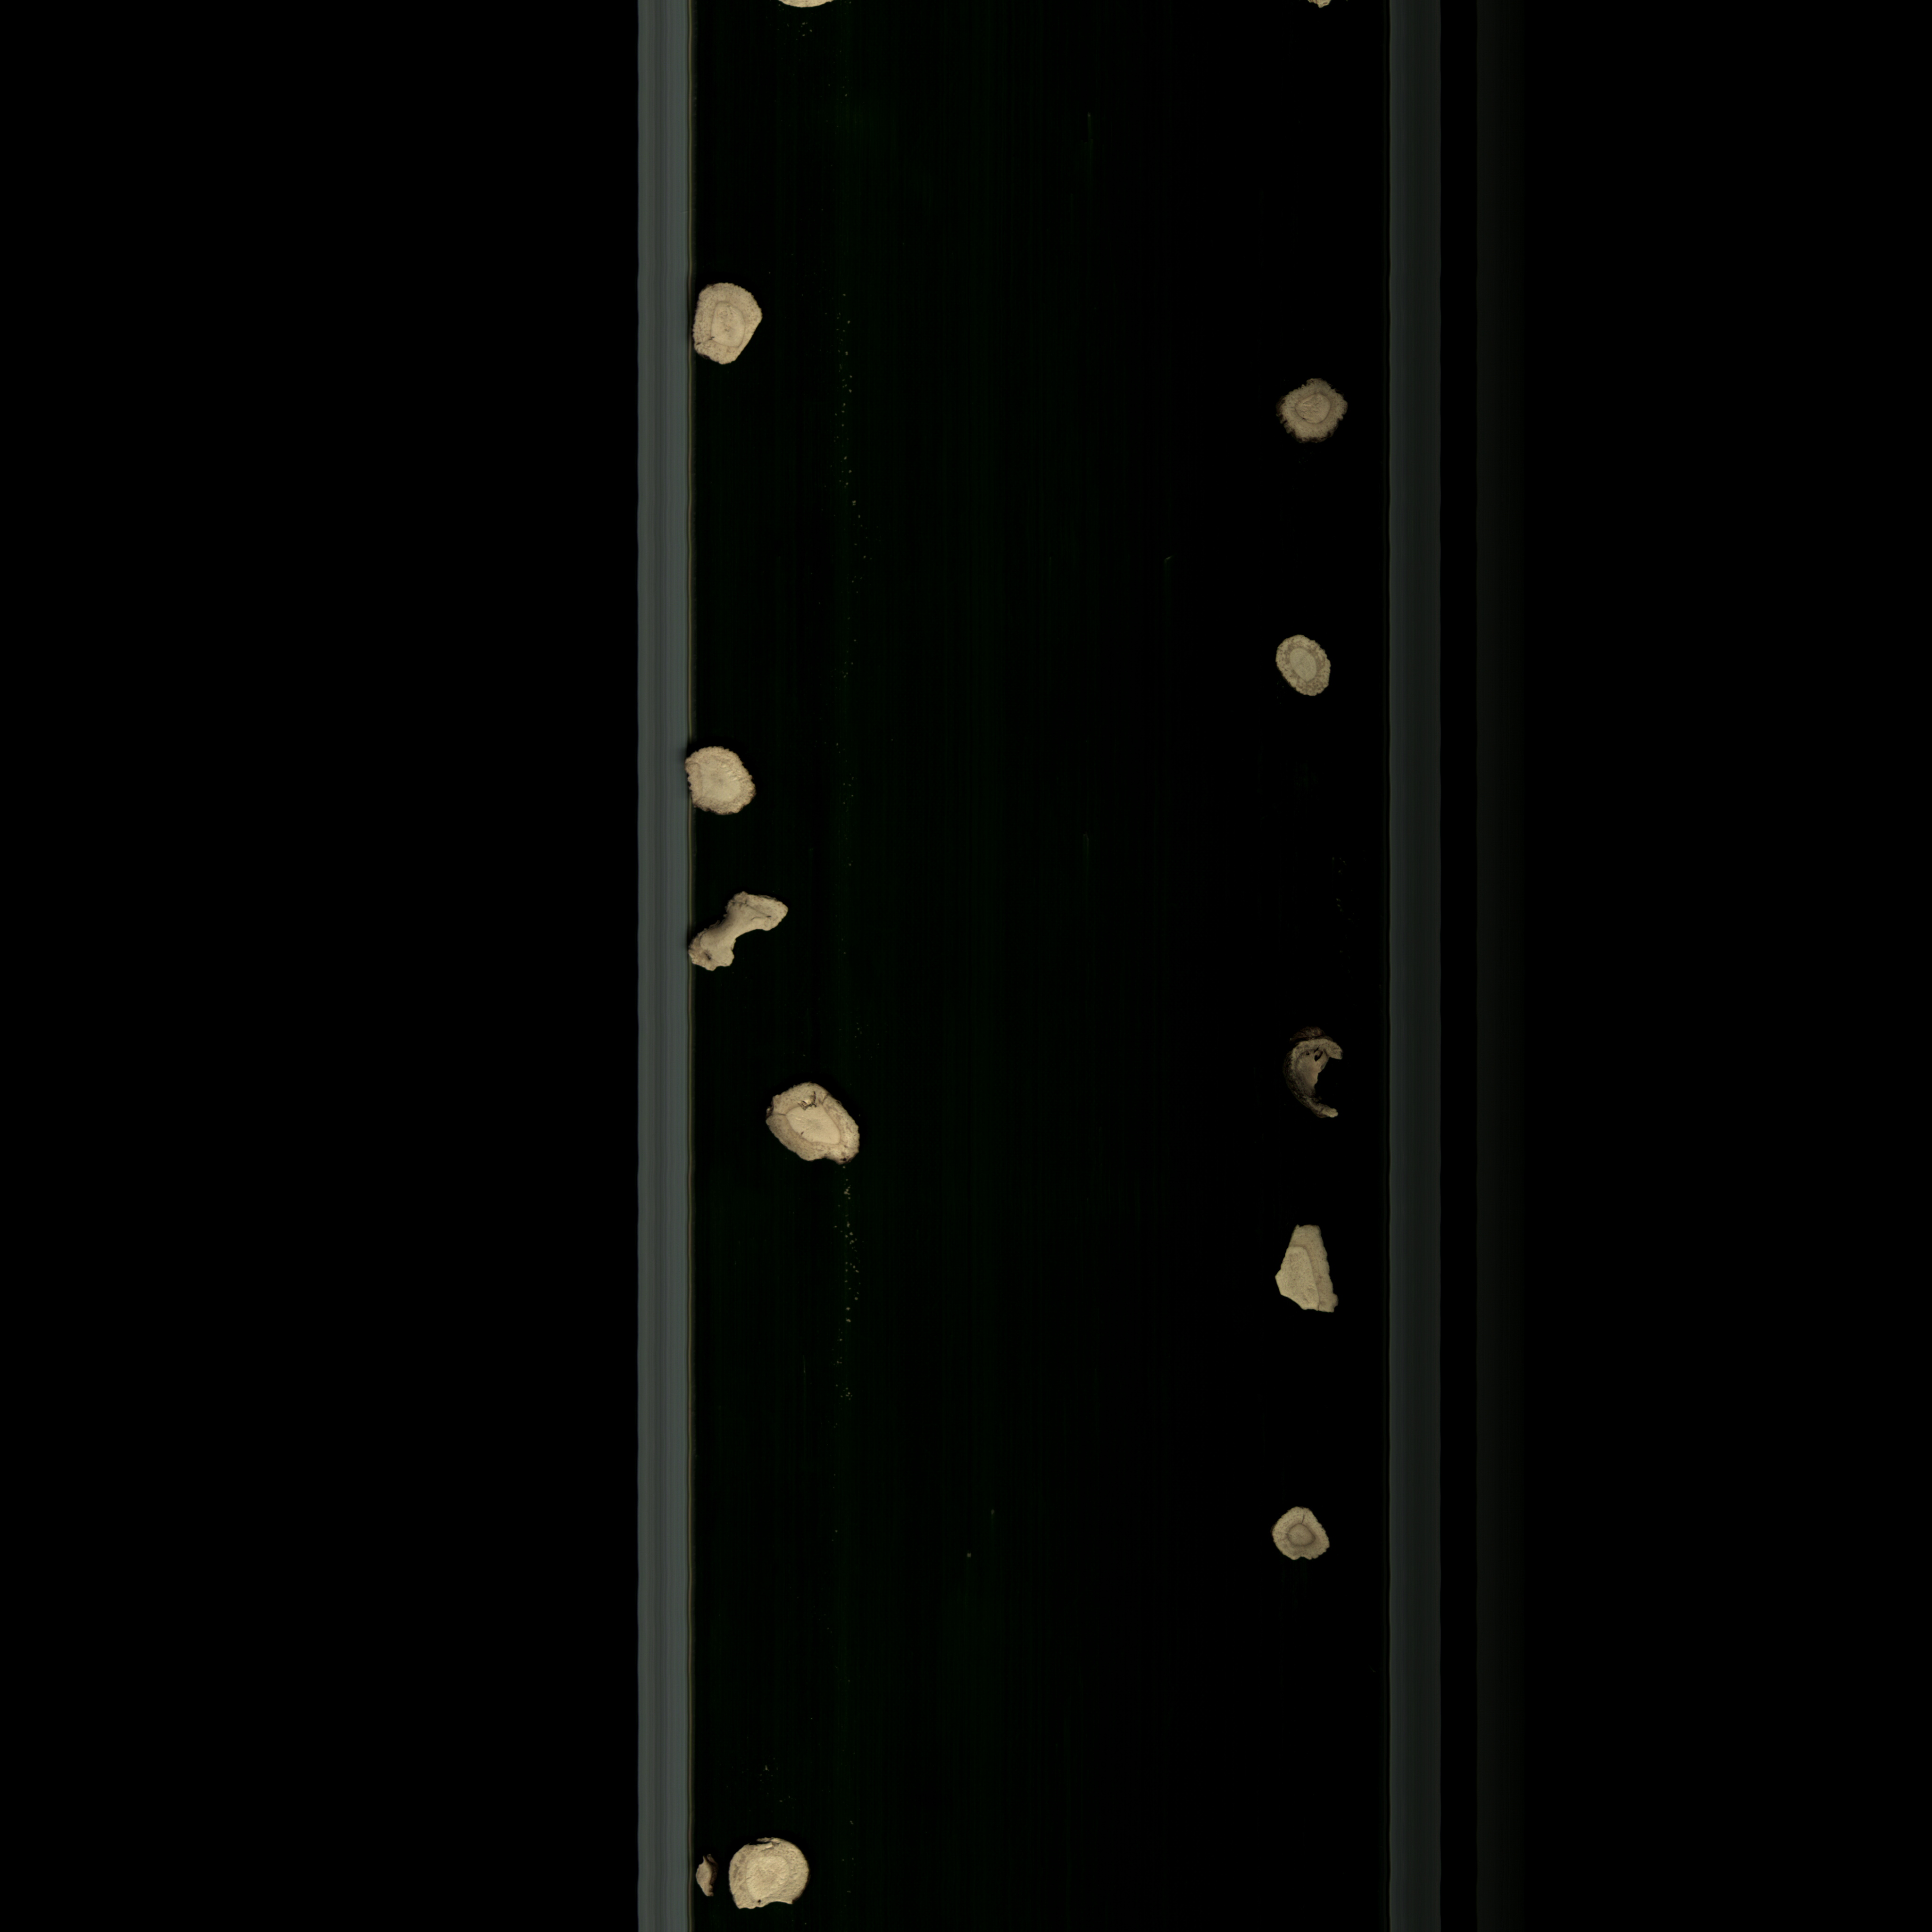bark: (1277, 1028, 1357, 1138)
debris: (745, 1072, 878, 1189), (1267, 1215, 1343, 1332), (685, 276, 770, 380), (729, 1824, 814, 1916)
distortion: (671, 881, 816, 977), (694, 1851, 715, 1905)
moldy: (663, 743, 759, 824), (1270, 380, 1355, 453), (1270, 1500, 1346, 1578), (1267, 633, 1339, 709)
